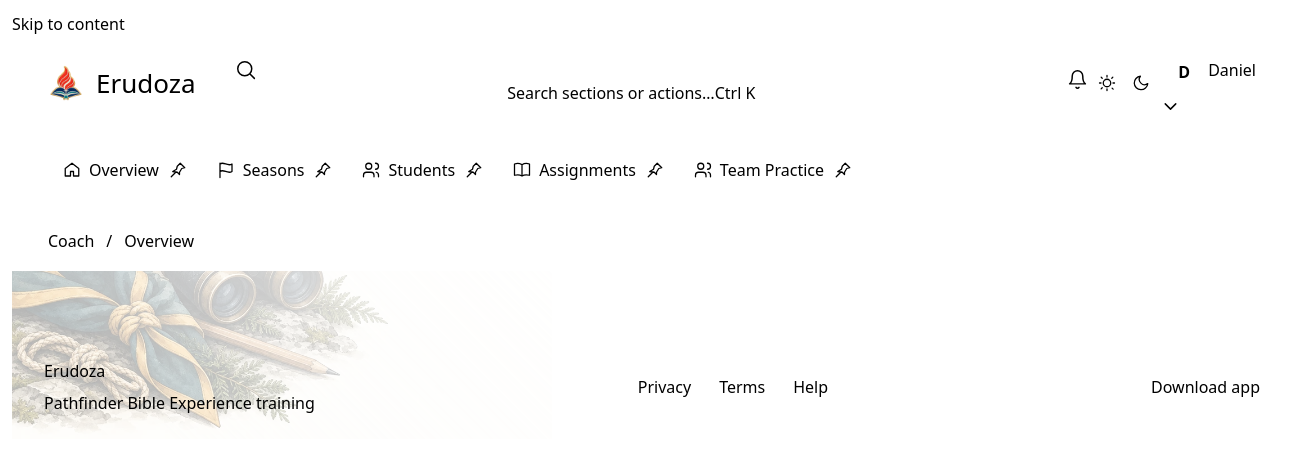
preserves the stable mobile dock when Coach pins change
This screenshot has width=1292, height=449.
Click the button named "Unpin Overview".
click(178, 170)  # box [163,154,193,186]
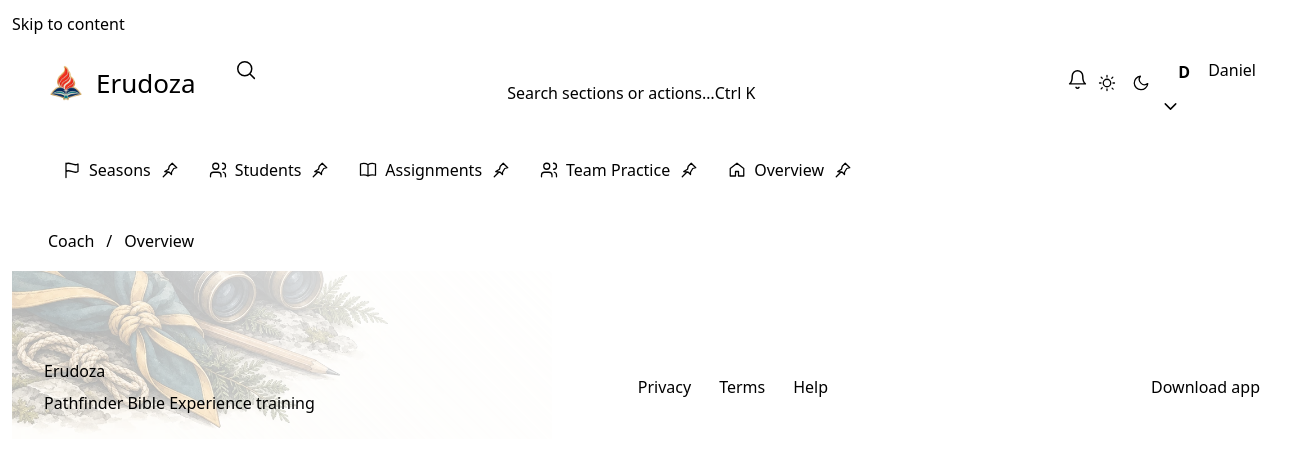
Expected: the button named "Pin Overview" is shown, [828,154,858,186]
Click the link "Team Practice".
click(605, 170)  # box [540,159,670,181]
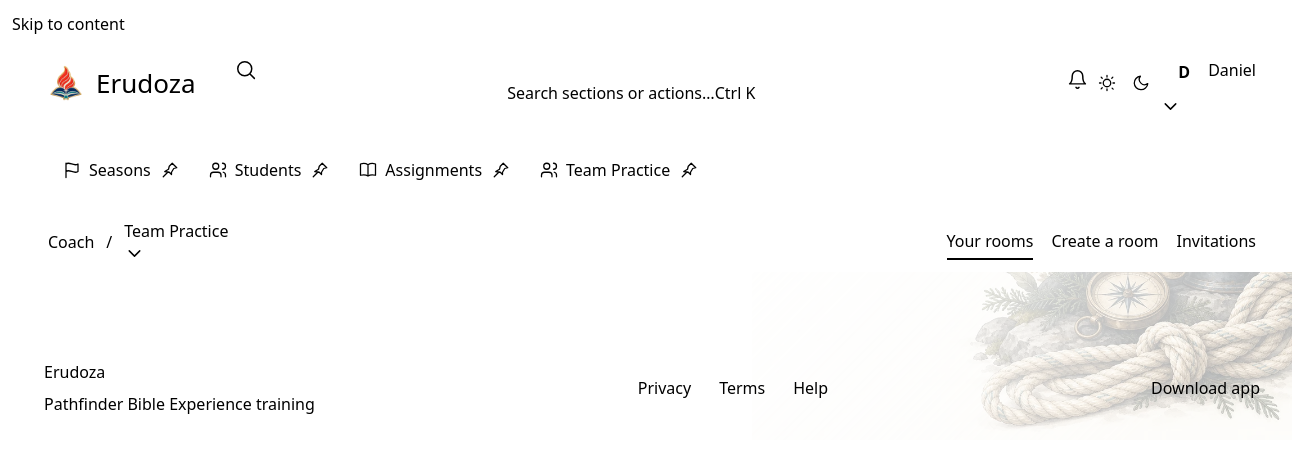
Expected: the link "Overview" is gone
